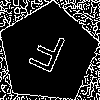F: (23, 28, 69, 83)
